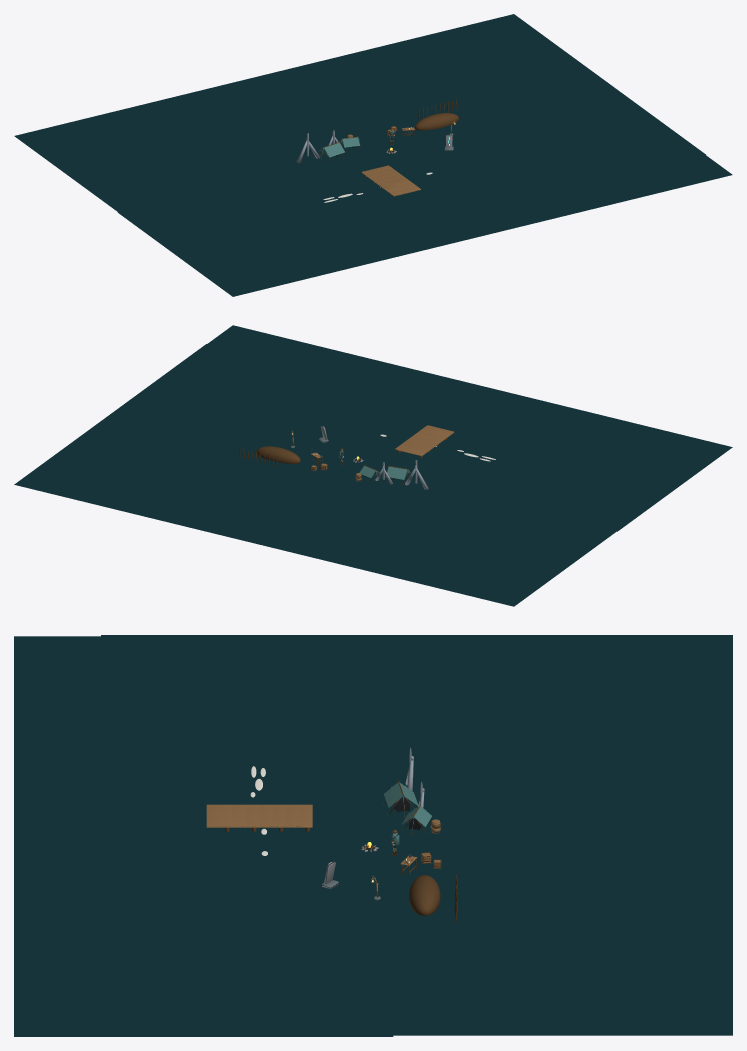
The model's file is 3D模型 scene_night_beach.glb.
3 views of the same model, one above another, from view 1: azimuth 30°, elevation 25°; view 2: azimuth 150°, elevation 25°; view 3: azimuth 270°, elevation 25° (orthographic). The views are drawn at different scales.
Visible parts, largest first — view 1: night_sand, night_sea, wreck_hull; view 2: night_sand, night_sea, wreck_hull; view 3: night_sand, night_sea, wreck_hull.
Part boxes in pixels (bbox=[...]): night_sand: bbox=[14, 14, 705, 276]; night_sea: bbox=[118, 155, 732, 296]; wreck_hull: bbox=[415, 113, 458, 130]; night_sand: bbox=[14, 344, 705, 606]; night_sea: bbox=[207, 325, 732, 531]; wreck_hull: bbox=[256, 446, 300, 463]; night_sand: bbox=[101, 635, 732, 1035]; night_sea: bbox=[14, 636, 393, 1036]; wreck_hull: bbox=[409, 875, 440, 915].
Bounding box in the file's own units: 60 × 4.17 × 45.5.
